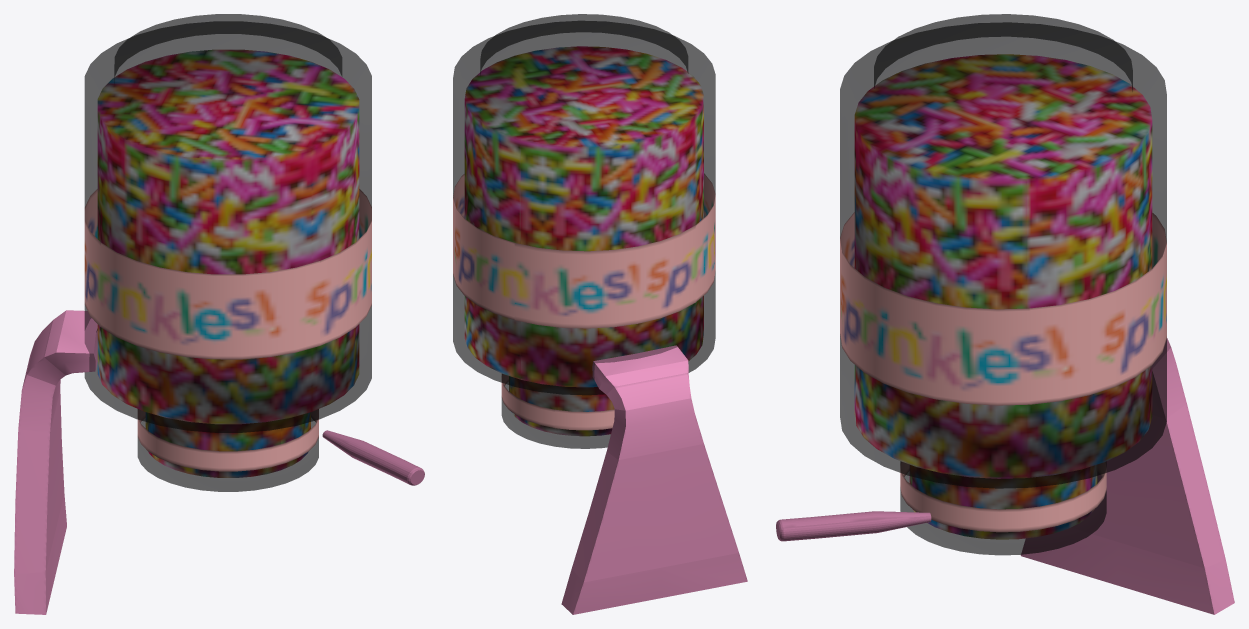
The model's file is Sprinkle_new2.fbx.
3 views of the same model, side by side, from view 1: azimuth 30°, elevation 25°; view 2: azimuth 150°, elevation 25°; view 3: azimuth 270°, elevation 25° (orthographic). The views are drawn at different scales.
Parts seen in each view (by area): view 1: stage1_sprinkle2, stage1_sprinkle1, stage1_sprinkle3; view 2: stage1_sprinkle2, stage1_sprinkle1; view 3: stage1_sprinkle2, stage1_sprinkle1, stage1_sprinkle3.
Part boxes in pixels (x1,y1,x2,y2): stage1_sprinkle2: [84, 14, 371, 491]; stage1_sprinkle1: [14, 310, 97, 614]; stage1_sprinkle3: [322, 430, 424, 485]; stage1_sprinkle2: [453, 14, 715, 448]; stage1_sprinkle1: [561, 345, 747, 614]; stage1_sprinkle2: [840, 14, 1166, 555]; stage1_sprinkle1: [1020, 338, 1234, 614]; stage1_sprinkle3: [776, 511, 931, 541].
Size of the model in its own units: 98.36 by 151 by 107.
